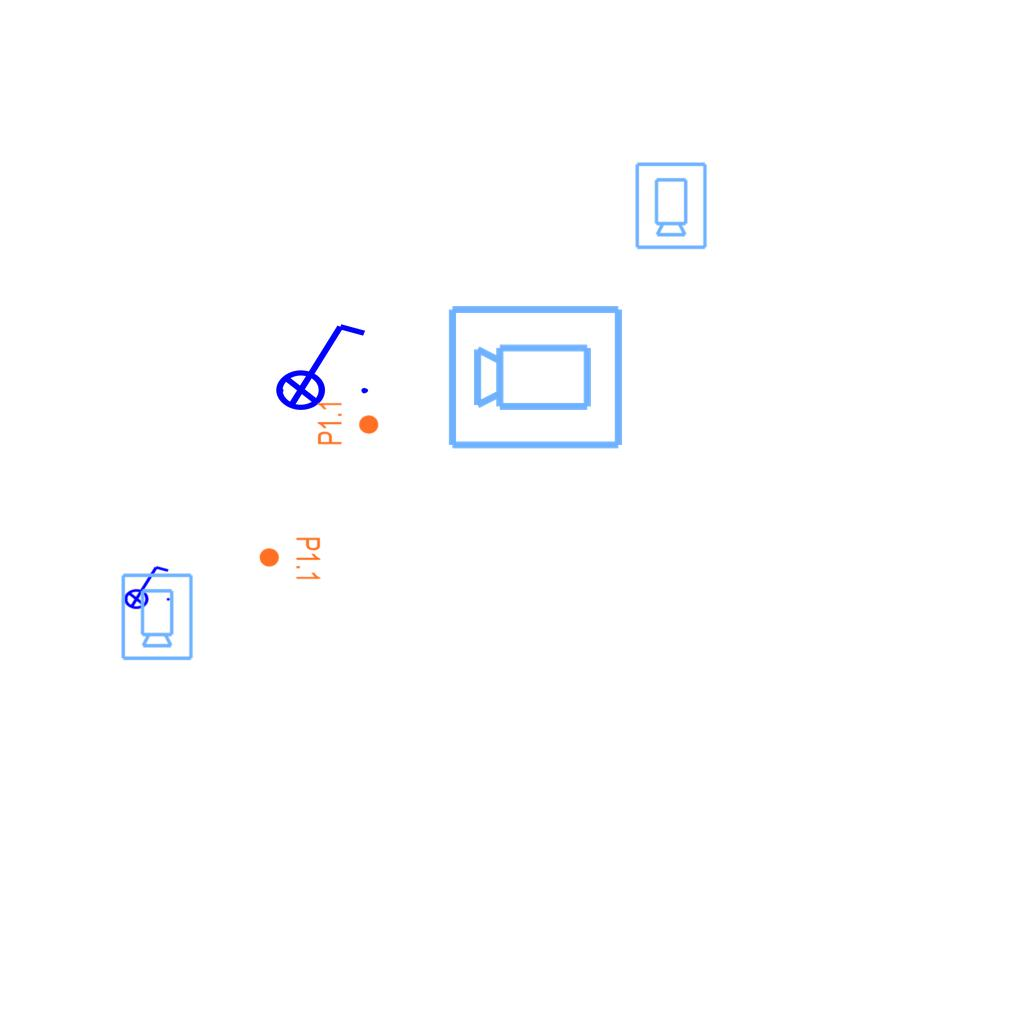Ausschalter_beleuchtet: (262, 316, 374, 412), (117, 562, 173, 610)
Downlight_LED_Einbauleuchten_Flur: (258, 536, 322, 582), (316, 400, 380, 446)
KFO_Kamera_mit_Festobjektiv: (445, 299, 627, 453), (632, 160, 709, 251), (118, 571, 195, 662)
